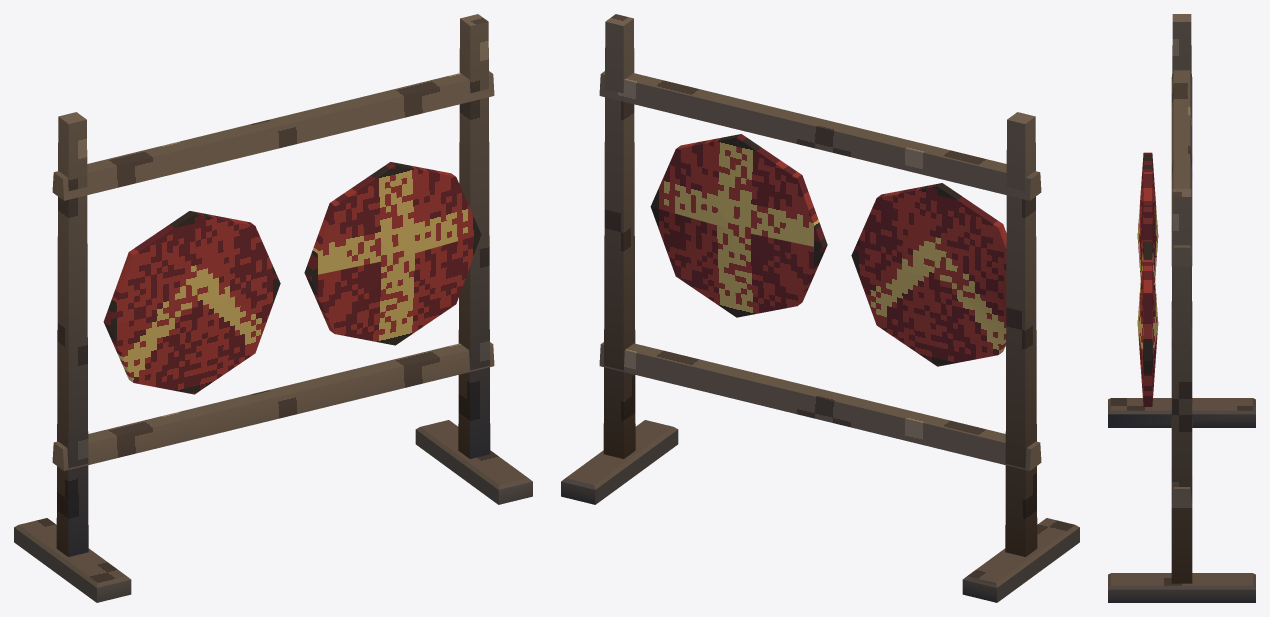
File: mprop.weapon_rack__shields.glb
3 renders of one model, left to right at view 1: azimuth 30°, elevation 25°; view 2: azimuth 150°, elevation 25°; view 3: azimuth 270°, elevation 25°, orthographic. The views are drawn at different scales.
Visible parts, largest first — view 1: kit_frame, kit_arms; view 2: kit_frame, kit_arms; view 3: kit_frame, kit_arms.
Part boxes in pixels (x1,y1,x2,y2): kit_frame: [14, 14, 532, 602]; kit_arms: [103, 162, 481, 394]; kit_frame: [561, 14, 1079, 602]; kit_arms: [650, 134, 1006, 366]; kit_frame: [1108, 14, 1255, 602]; kit_arms: [1137, 152, 1158, 406].
Size of the model in its own units: 1.52 by 1.5 by 0.5.
Materials: 2 (2 with a texture image).
